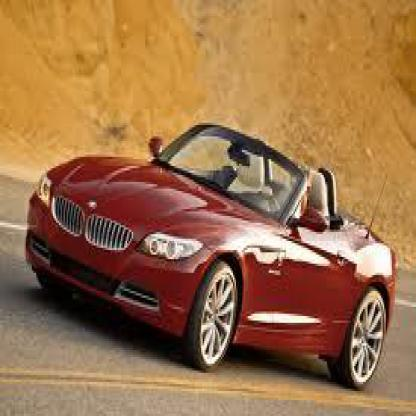Vehicle: (23, 118, 396, 393)
